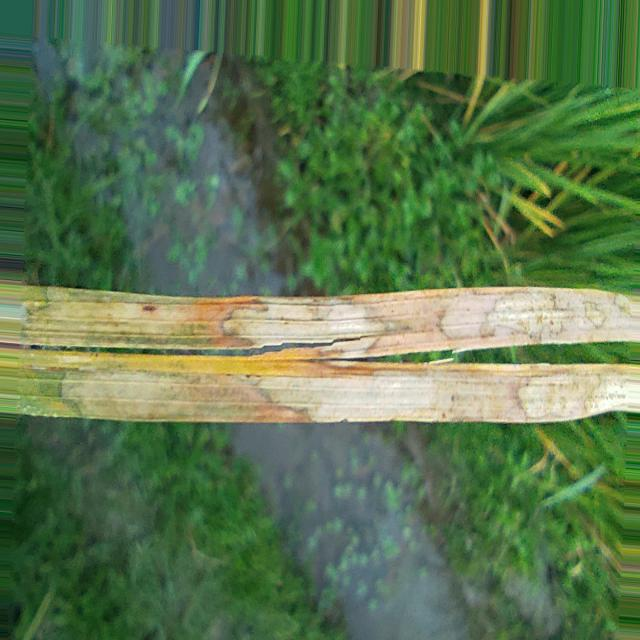Brown_Spot: (142, 305, 156, 312)
Rice False Smut: (62, 377, 311, 422), (441, 288, 630, 347), (270, 363, 436, 422), (226, 297, 364, 347), (519, 365, 626, 420)
